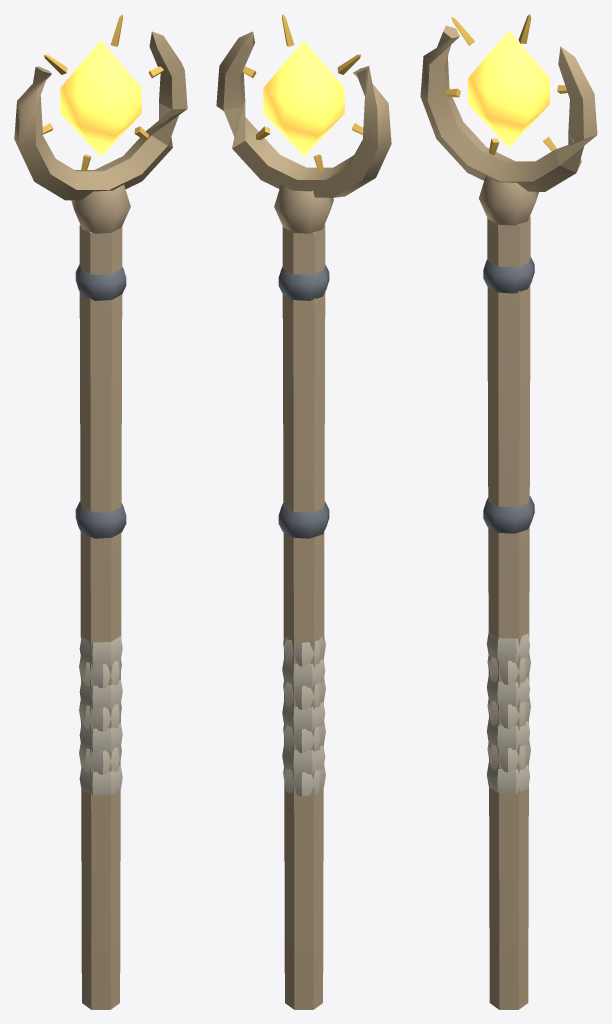
File: sunstone-staff-2.glb
The picture shows the model from 3 angles, left to right: view 1: azimuth 30°, elevation 25°; view 2: azimuth 150°, elevation 25°; view 3: azimuth 330°, elevation 25°; orthographic projection.
Parts seen in each view (by area): view 1: sunstone-staff-2; view 2: sunstone-staff-2; view 3: sunstone-staff-2.
Part boxes in pixels (x1,y1,x2,y2): sunstone-staff-2: (14,14,187,1009); sunstone-staff-2: (216,14,391,1009); sunstone-staff-2: (420,14,597,1009).
Bounding box in the file's own units: 0.165 × 0.9105 × 0.068.
